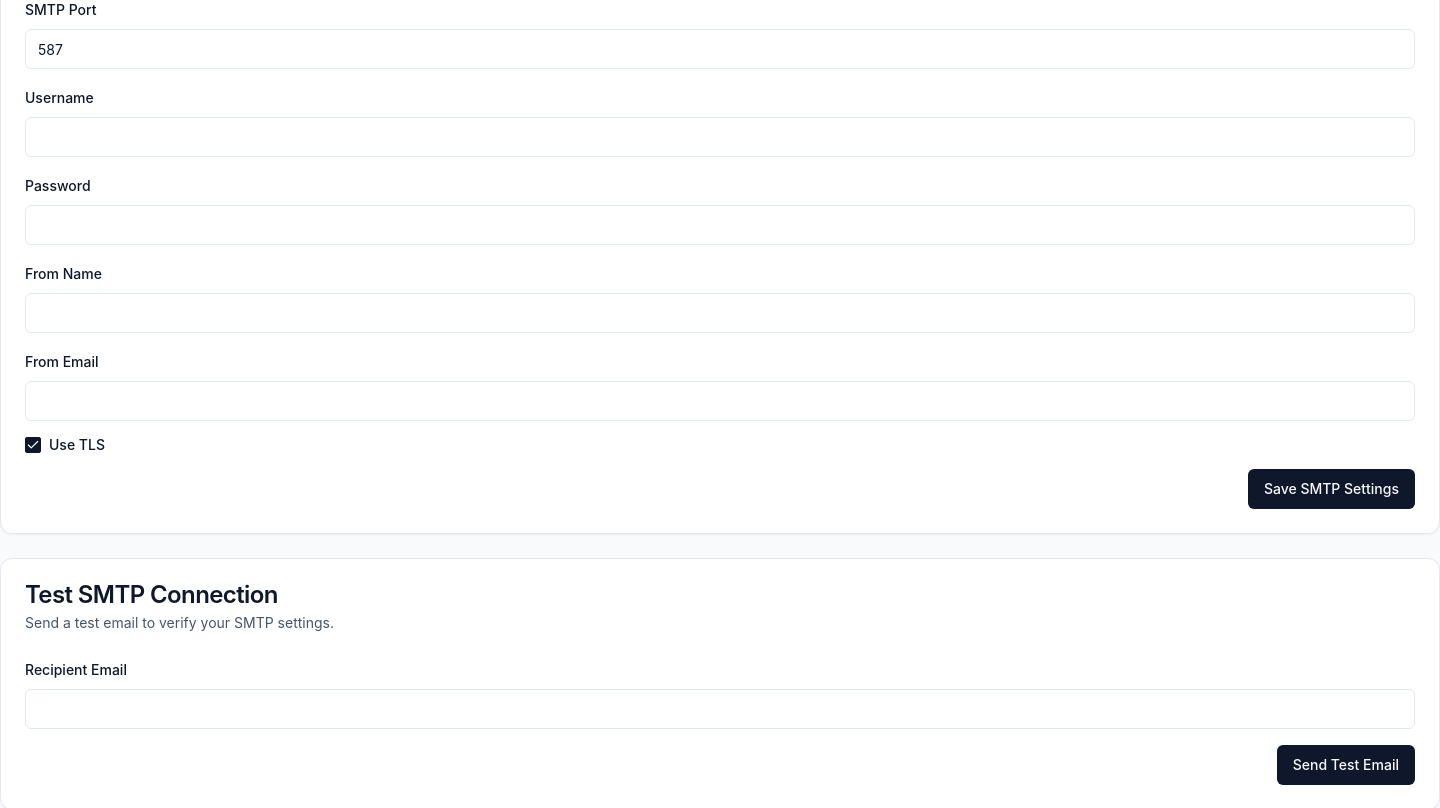
SmtpPage › validates recipient email before sending test email
(page scrolled)
In the field labelled "Recipient Email": point(720, 709) 25,689 -> 1415,729, type "invalid-email"
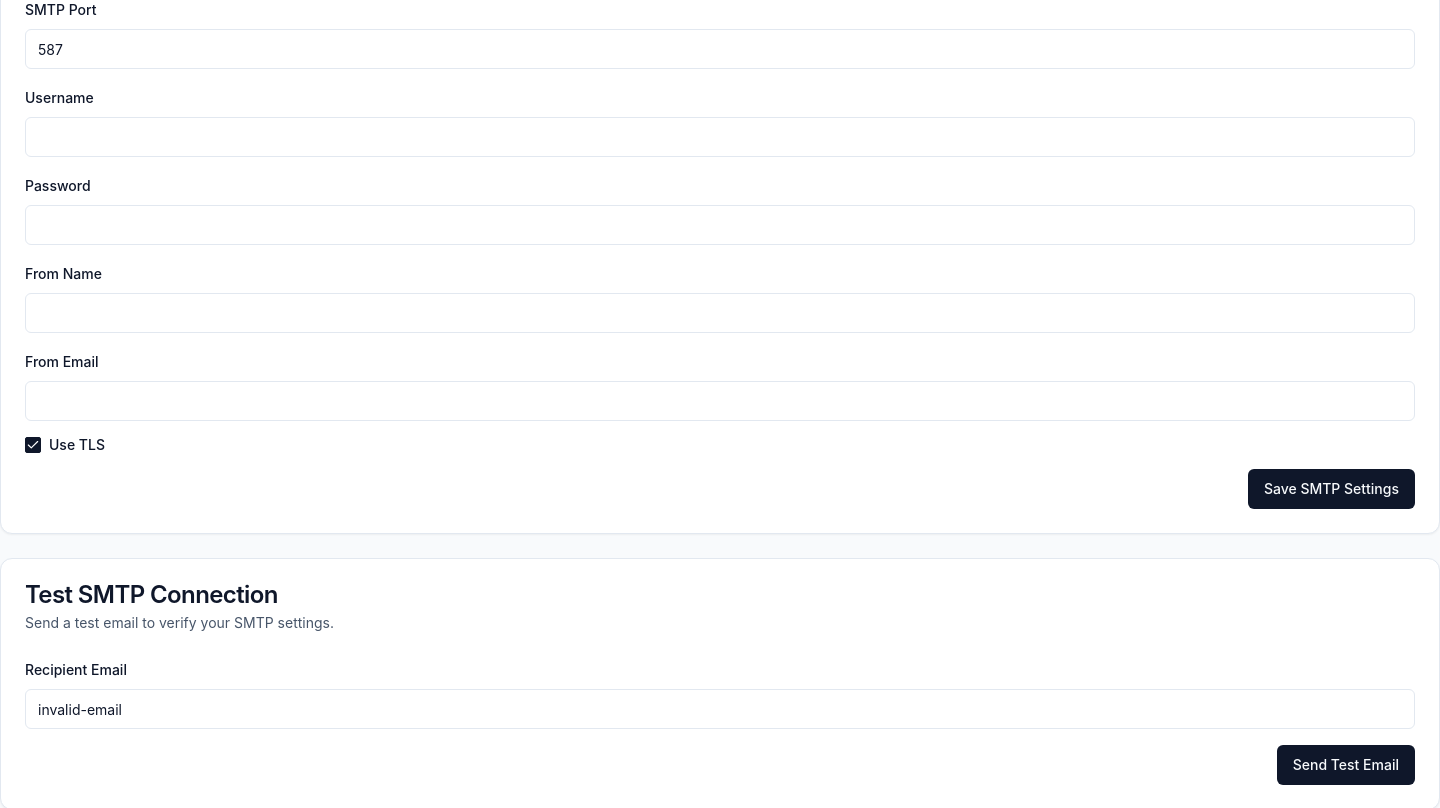
Click the button "Send Test Email": point(1346, 765) 1277,745 -> 1415,785
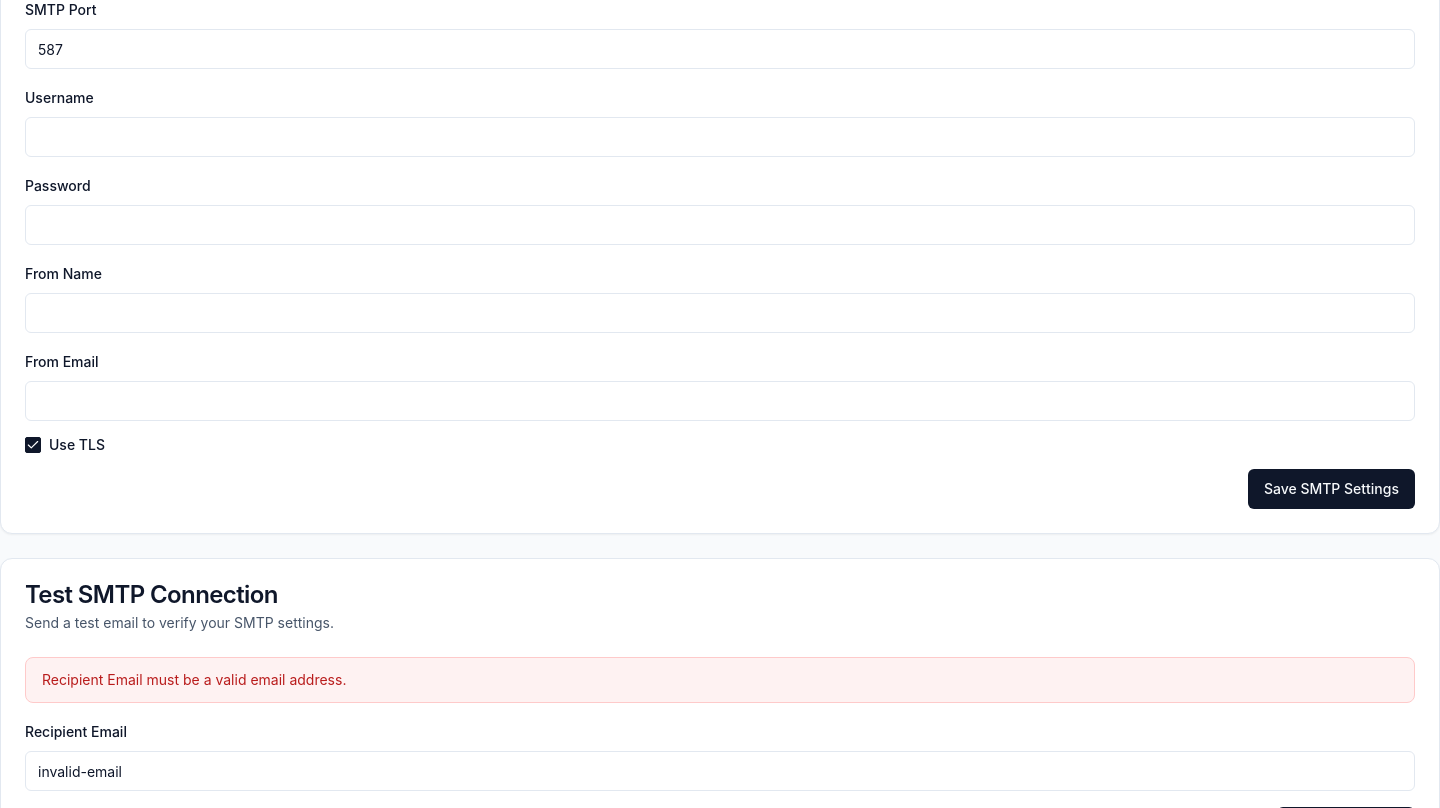
Check: the text "Recipient Email must be a valid email address." is shown, box 25,657 -> 1415,703
